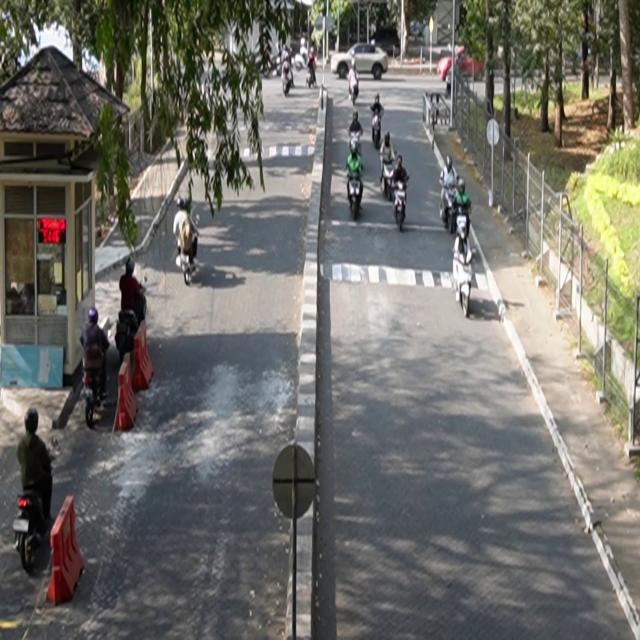car: (331, 43, 389, 81)
